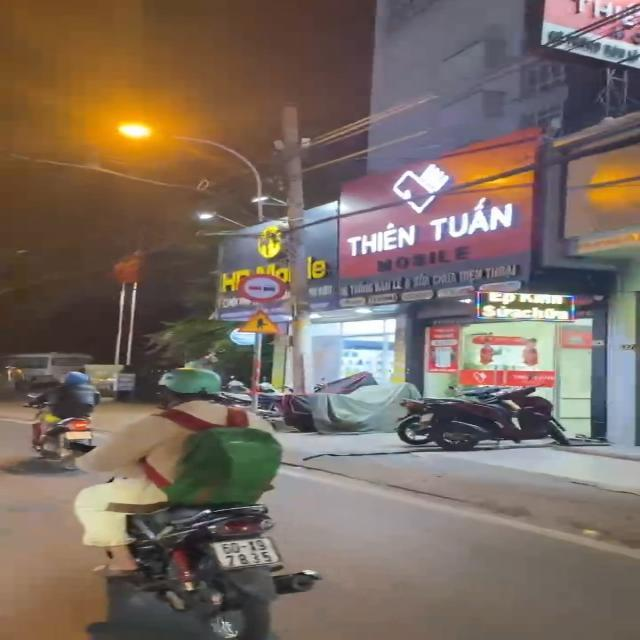125-cam-vuot: (239, 272, 287, 304)
207-giao-nhau-voi-duong-khong-uu-tien: (236, 311, 284, 334)
